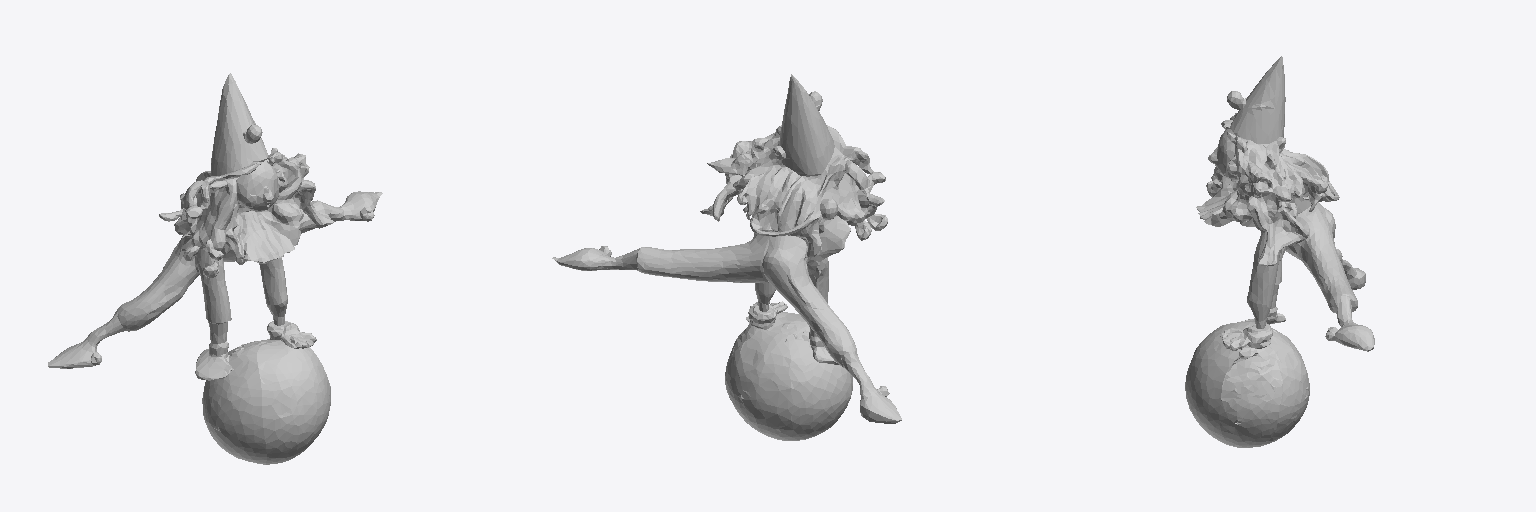
Rendered from clown_pose_3.obj.
3 renders of one model, left to right at view 1: azimuth 30°, elevation 25°; view 2: azimuth 150°, elevation 25°; view 3: azimuth 270°, elevation 25°, orthographic.
Parts seen in each view (by area): view 1: geometry_0_Mesh; view 2: geometry_0_Mesh; view 3: geometry_0_Mesh.
Part boxes in pixels (x1,y1,x2,y2): geometry_0_Mesh: (48, 73, 382, 464); geometry_0_Mesh: (552, 74, 901, 440); geometry_0_Mesh: (1185, 56, 1374, 447).
Bounding box in the file's own units: 0.9494 × 0.9998 × 0.456.